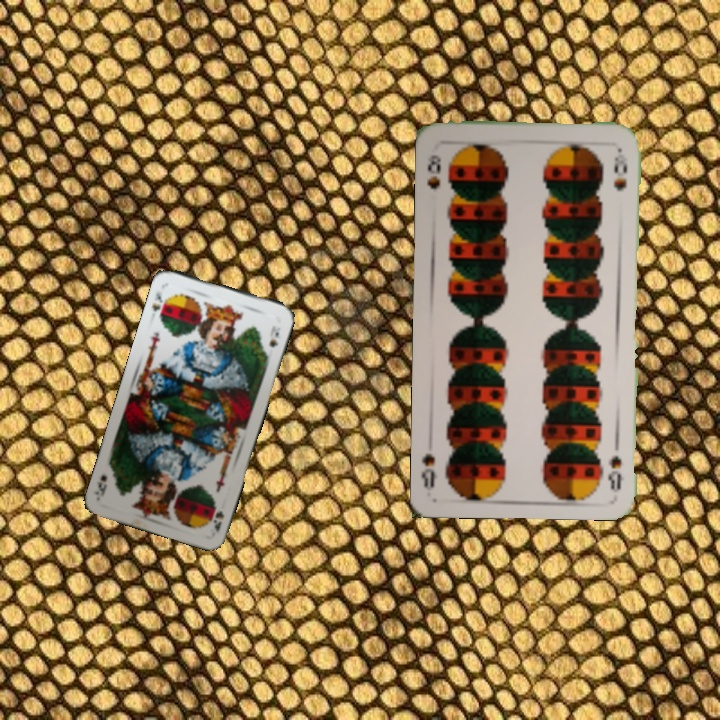S8: (604, 435, 625, 494), (423, 151, 444, 192)
SK: (148, 288, 171, 321), (207, 503, 227, 535)
